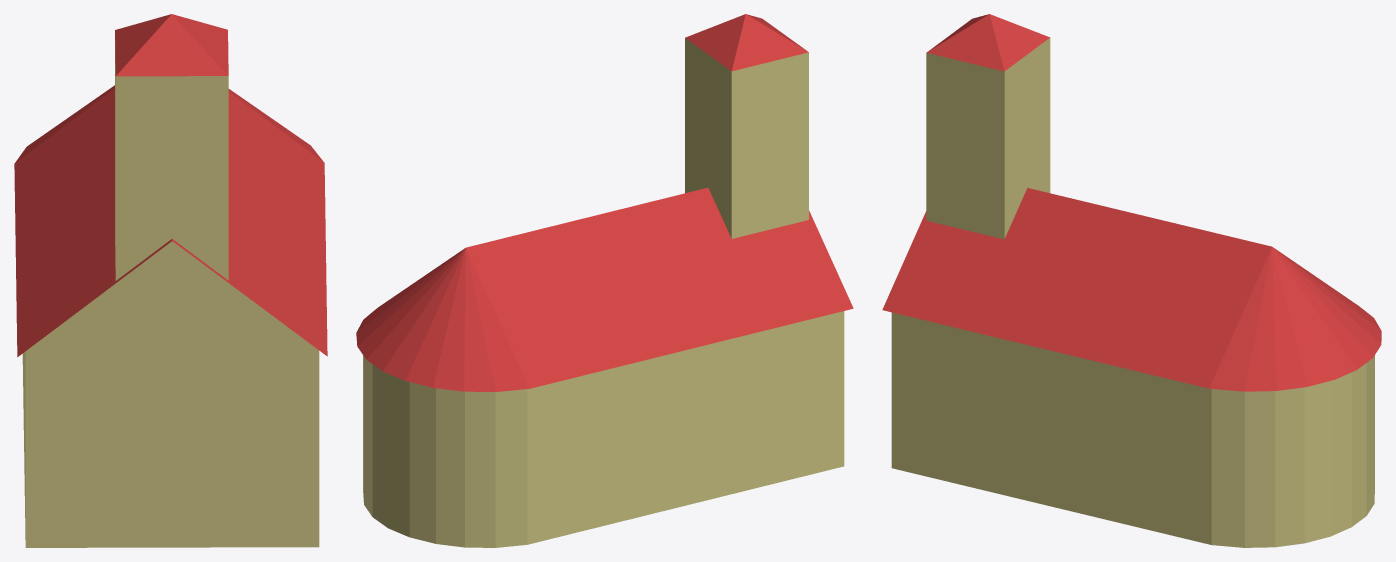
The picture shows the model from 3 angles, left to right: view 1: azimuth 30°, elevation 25°; view 2: azimuth 150°, elevation 25°; view 3: azimuth 270°, elevation 25°; orthographic projection. The views are drawn at different scales.
Size of the model in its own units: 30.35 by 36.58 by 33.86.
